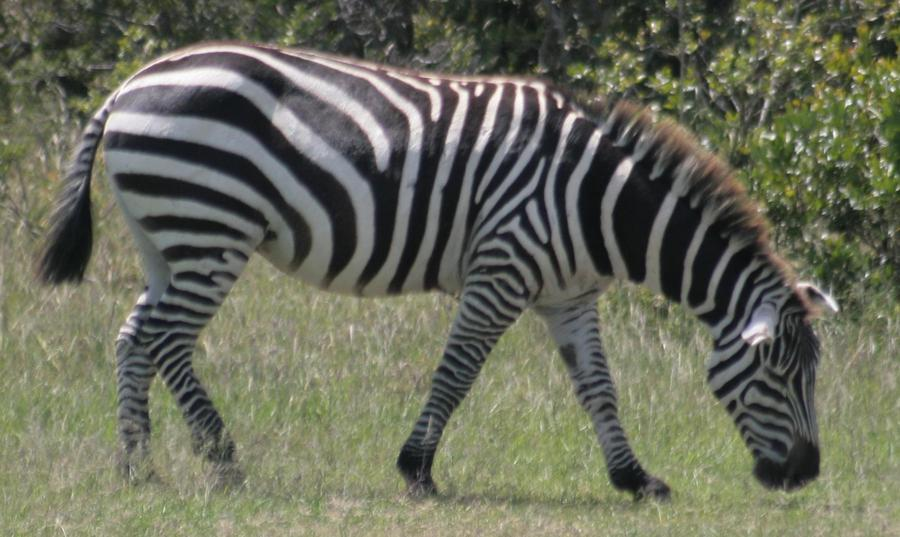zebra_plains: (106, 37, 597, 310)
